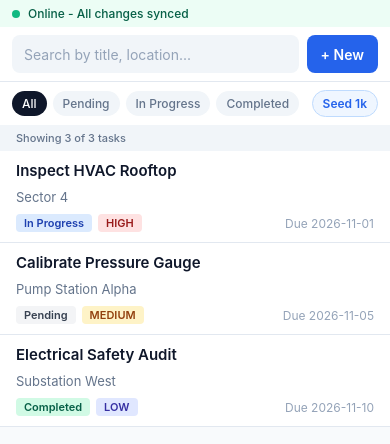
Test: TaskListScreen › filters task list by status chip
This screenshot has width=390, height=444.
Click the element with test id "filter-chip-completed". click: [258, 104]
box: [216,91,299,116]
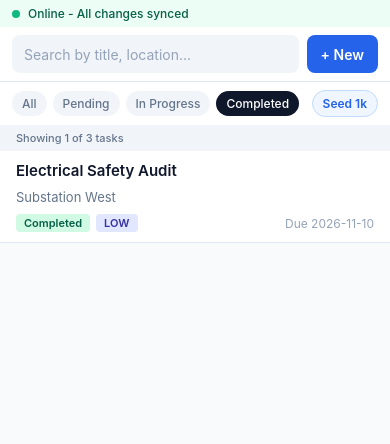
Expected: the text "Electrical Safety Audit" is shown, [16,161,177,180]
Now the text "Inspect HVAC Rooftop" is gone
